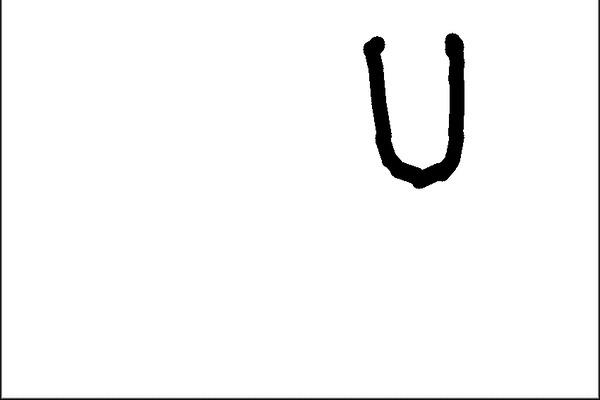U: (352, 24, 481, 199)
